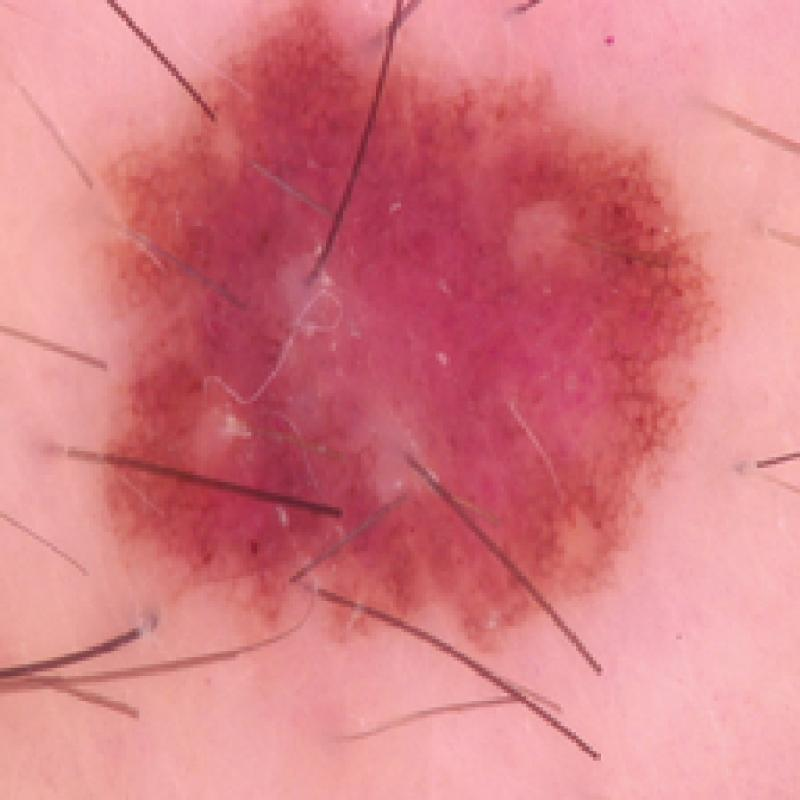benign: (93, 17, 737, 640)
